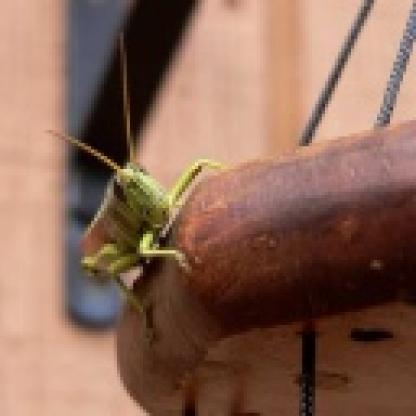grasshopper: (66, 101, 206, 308)
